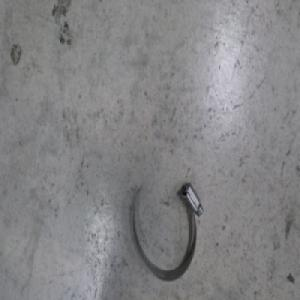AdjustableClamp: (129, 181, 202, 284)
